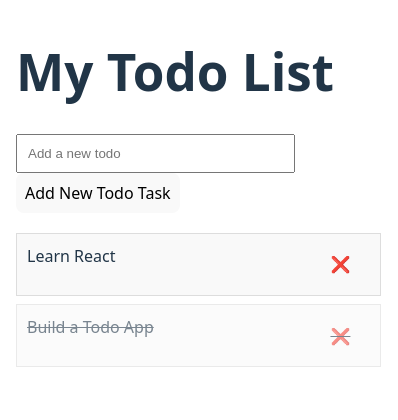
adds a new todo item
The width and height of the screenshot is (398, 420).
Type "Write tests" into the field with placeholder "Add a new todo". click: (156, 153)
box: [16,134,295,173]
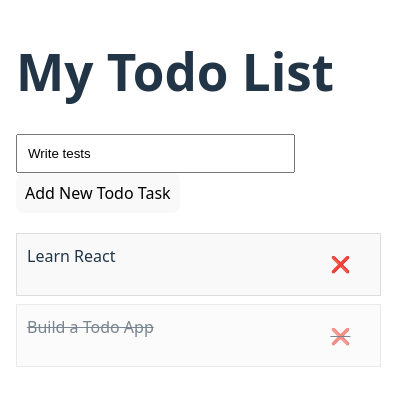
Click the button "Add New Todo Task". click: (98, 193)
box: [16,173,180,213]
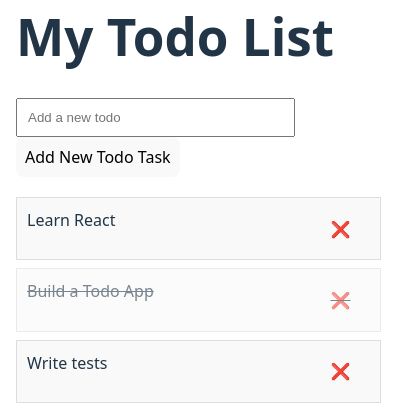
Expected: the text "Write tests" is shown, [27,352,107,374]
